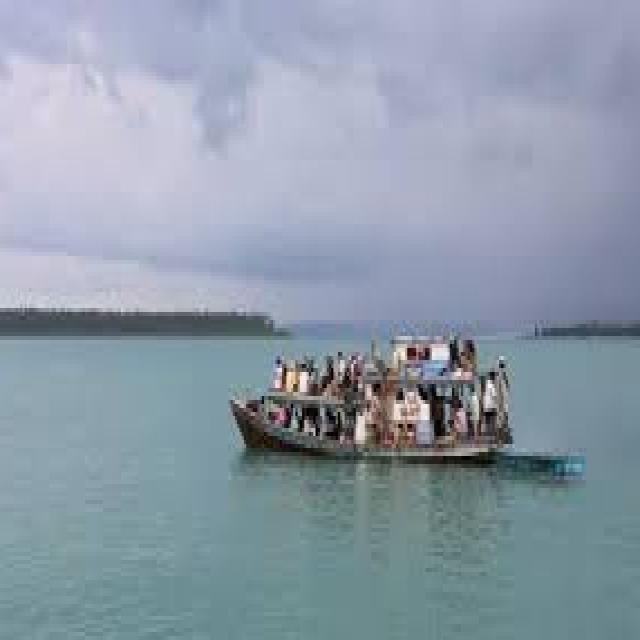houseboat: (232, 302, 521, 472)
